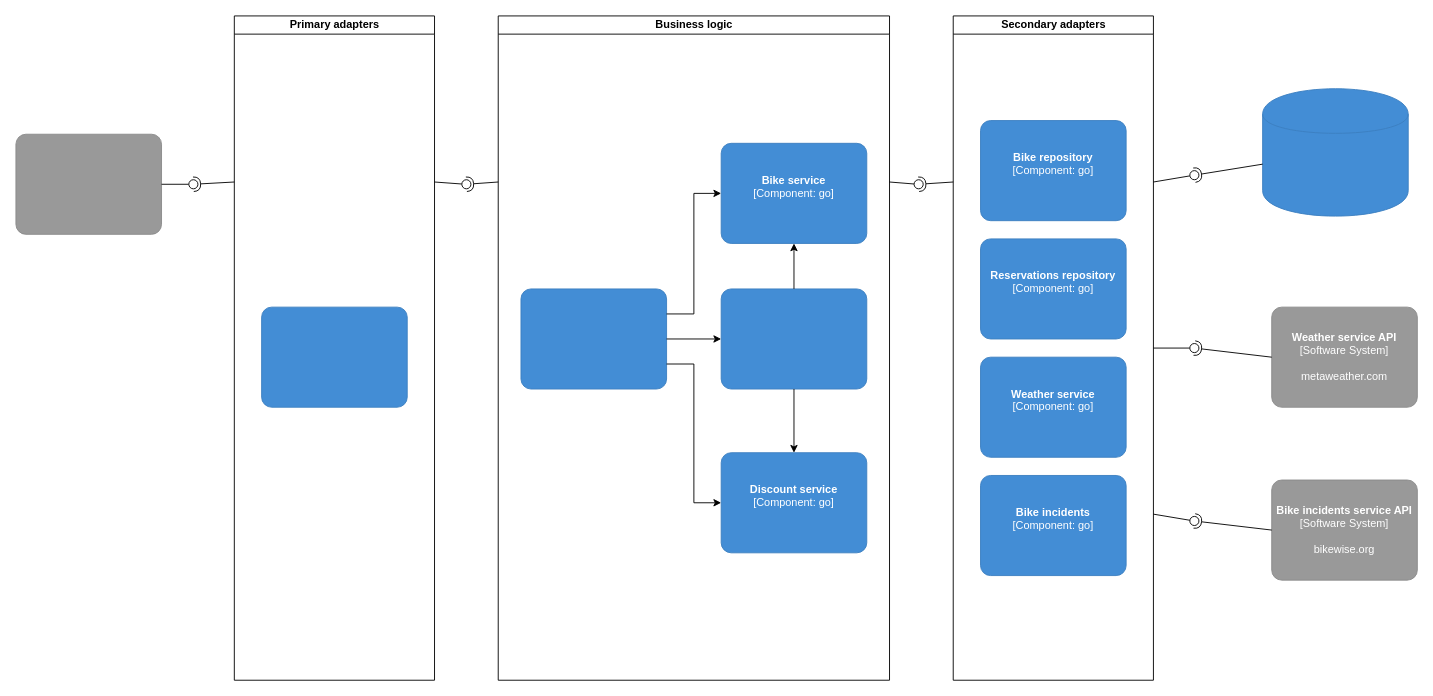
This 1433x696 diagram has some shape labels left out. The centre of each missing label's shape, as x and y in pixels:
API [Component: go]: the point at 334,356
Database [Container: BoltDB] Local database: the point at 1335,152
External system [Software System]: the point at 88,183
Reservation service [Component: go]: the point at 793,338
Service [Component: go]: the point at 593,338
